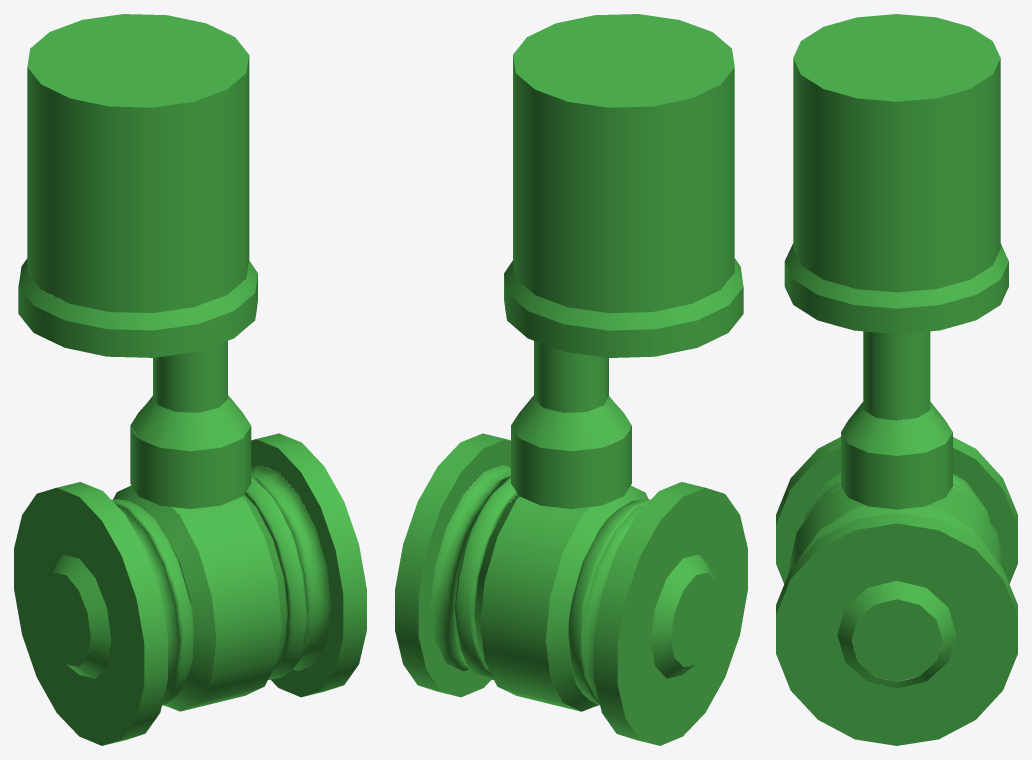
3 renders of one model, left to right at view 1: azimuth 30°, elevation 25°; view 2: azimuth 150°, elevation 25°; view 3: azimuth 270°, elevation 25°, orthographic. The views are drawn at different scales.
Visible parts, largest first — view 1: 电动阀门; view 2: 电动阀门; view 3: 电动阀门.
Part boxes in pixels (x1,y1,x2,y2): 电动阀门: [14, 14, 366, 745]; 电动阀门: [395, 14, 747, 745]; 电动阀门: [776, 14, 1017, 745].
Size of the model in its own units: 8.46 by 19.01 by 6.79.
